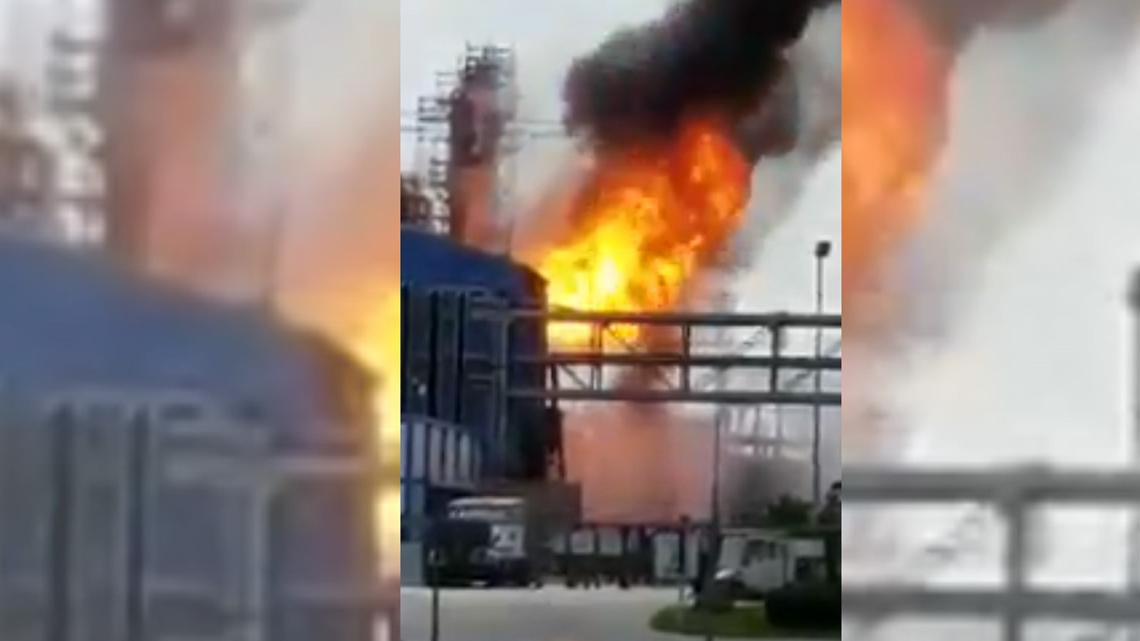fire: (526, 114, 774, 349)
